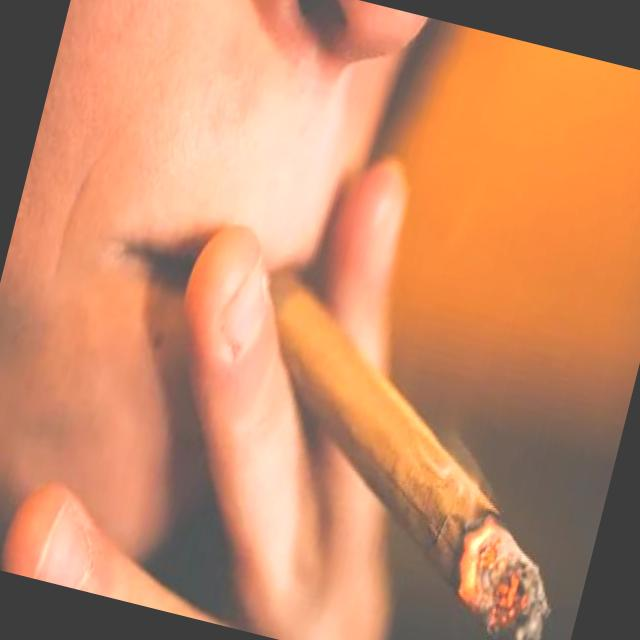cigarette: (184, 252, 625, 640)
